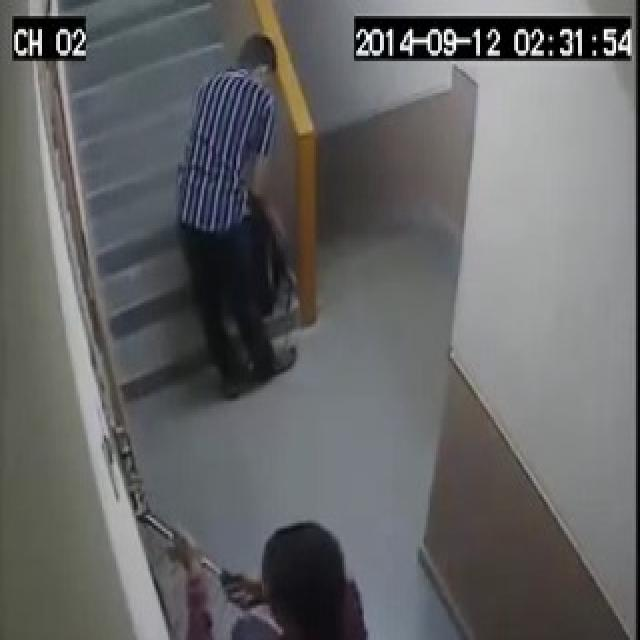thief: (182, 30, 307, 399), (137, 509, 383, 640)
